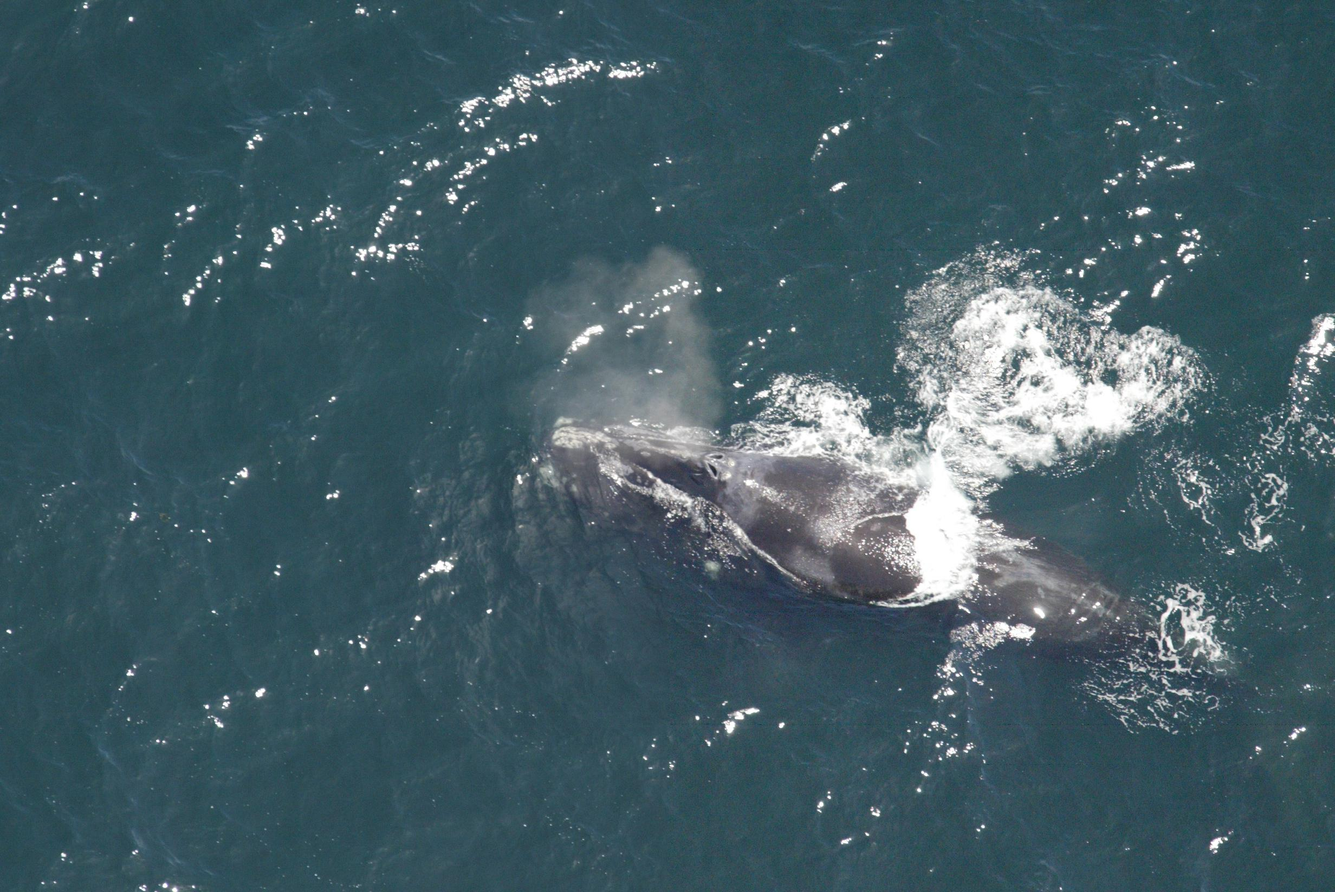whale: (528, 410, 1334, 781)
